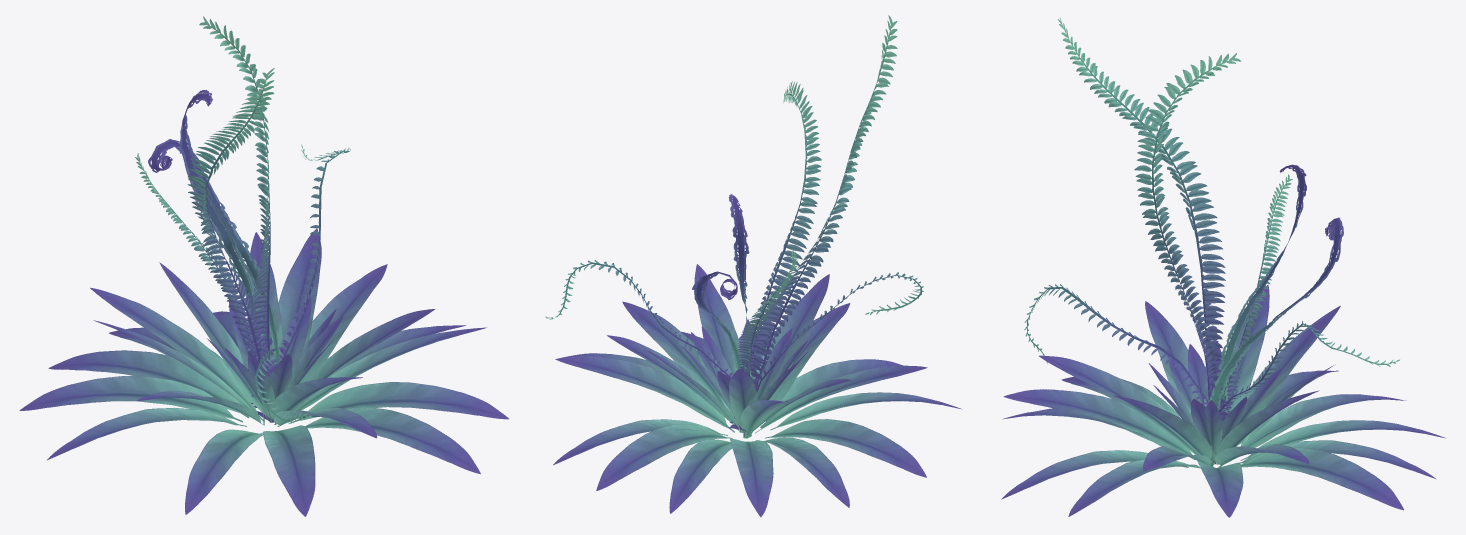
3 renders of one model, left to right at view 1: azimuth 30°, elevation 25°; view 2: azimuth 150°, elevation 25°; view 3: azimuth 270°, elevation 25°, orthographic. The views are drawn at different scales.
Parts seen in each view (by area): view 1: SM_FH_SwampFern_02_LOD0; view 2: SM_FH_SwampFern_02_LOD0; view 3: SM_FH_SwampFern_02_LOD0.
Part boxes in pixels (bbox=[...]): SM_FH_SwampFern_02_LOD0: bbox=[19, 16, 508, 516]; SM_FH_SwampFern_02_LOD0: bbox=[545, 15, 961, 517]; SM_FH_SwampFern_02_LOD0: bbox=[1001, 17, 1445, 517].
Size of the model in its own units: 1.34 by 1.31 by 1.31.
1 material, 1 textured.
